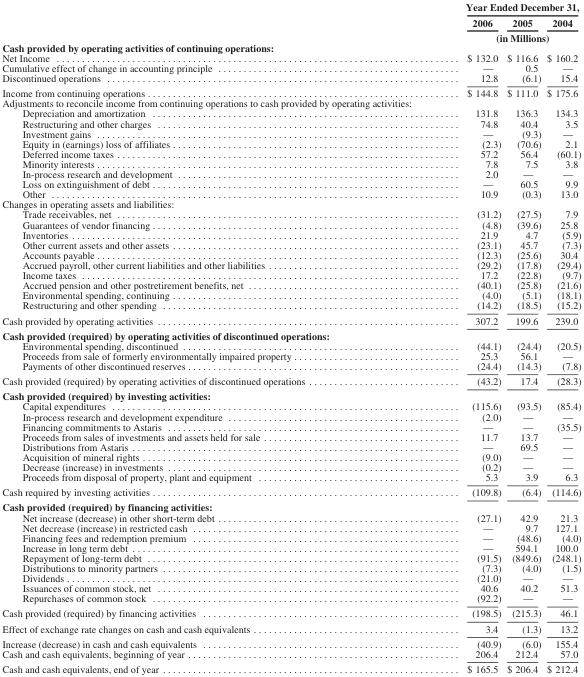table: (1, 1, 580, 674)
table column: (1, 1, 384, 674), (384, 1, 503, 674), (503, 1, 543, 674), (543, 1, 580, 674)
table column header: (1, 1, 580, 42)
table projected row header: (1, 327, 580, 340), (1, 499, 580, 512), (1, 388, 580, 400), (1, 198, 580, 209), (1, 42, 580, 52), (1, 97, 580, 107)
table row: (1, 14, 580, 29), (1, 312, 580, 327), (1, 373, 580, 388), (1, 484, 580, 499), (1, 605, 580, 620), (1, 620, 580, 635), (1, 1, 580, 14), (1, 29, 580, 42), (1, 72, 580, 85), (1, 299, 580, 312), (1, 327, 580, 340), (1, 360, 580, 373), (1, 471, 580, 484), (1, 499, 580, 512), (1, 592, 580, 605), (1, 635, 580, 648), (1, 648, 580, 661), (1, 661, 580, 674), (1, 85, 580, 97), (1, 388, 580, 400), (1, 107, 580, 118), (1, 198, 580, 209), (1, 400, 580, 411), (1, 42, 580, 52), (1, 52, 580, 62), (1, 62, 580, 72), (1, 97, 580, 107), (1, 118, 580, 128), (1, 128, 580, 138), (1, 138, 580, 148), (1, 148, 580, 158), (1, 158, 580, 168), (1, 168, 580, 178), (1, 178, 580, 188), (1, 188, 580, 198), (1, 209, 580, 219), (1, 219, 580, 229), (1, 229, 580, 239), (1, 239, 580, 249), (1, 249, 580, 259), (1, 259, 580, 269), (1, 269, 580, 279), (1, 279, 580, 289), (1, 289, 580, 299), (1, 340, 580, 350), (1, 350, 580, 360), (1, 411, 580, 421), (1, 421, 580, 431), (1, 431, 580, 441), (1, 441, 580, 451), (1, 451, 580, 461), (1, 461, 580, 471), (1, 512, 580, 522), (1, 522, 580, 532), (1, 532, 580, 542), (1, 542, 580, 552), (1, 552, 580, 562), (1, 562, 580, 572), (1, 572, 580, 582), (1, 582, 580, 592)
table spanning cell: (384, 1, 580, 14), (384, 29, 580, 42)
